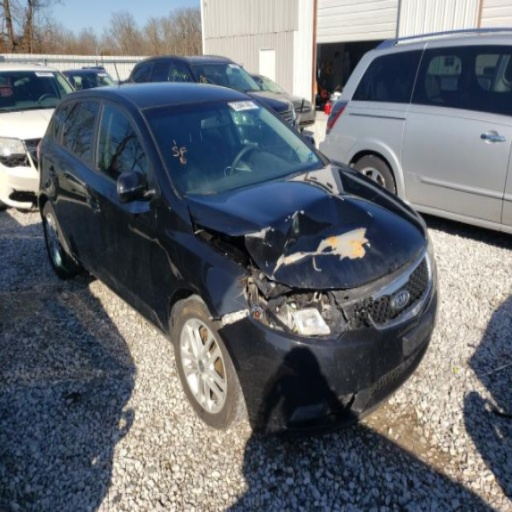dent: (243, 212, 332, 268)
rust: (306, 226, 372, 264), (239, 274, 248, 302)
scratch: (277, 251, 307, 267), (251, 227, 272, 242)
